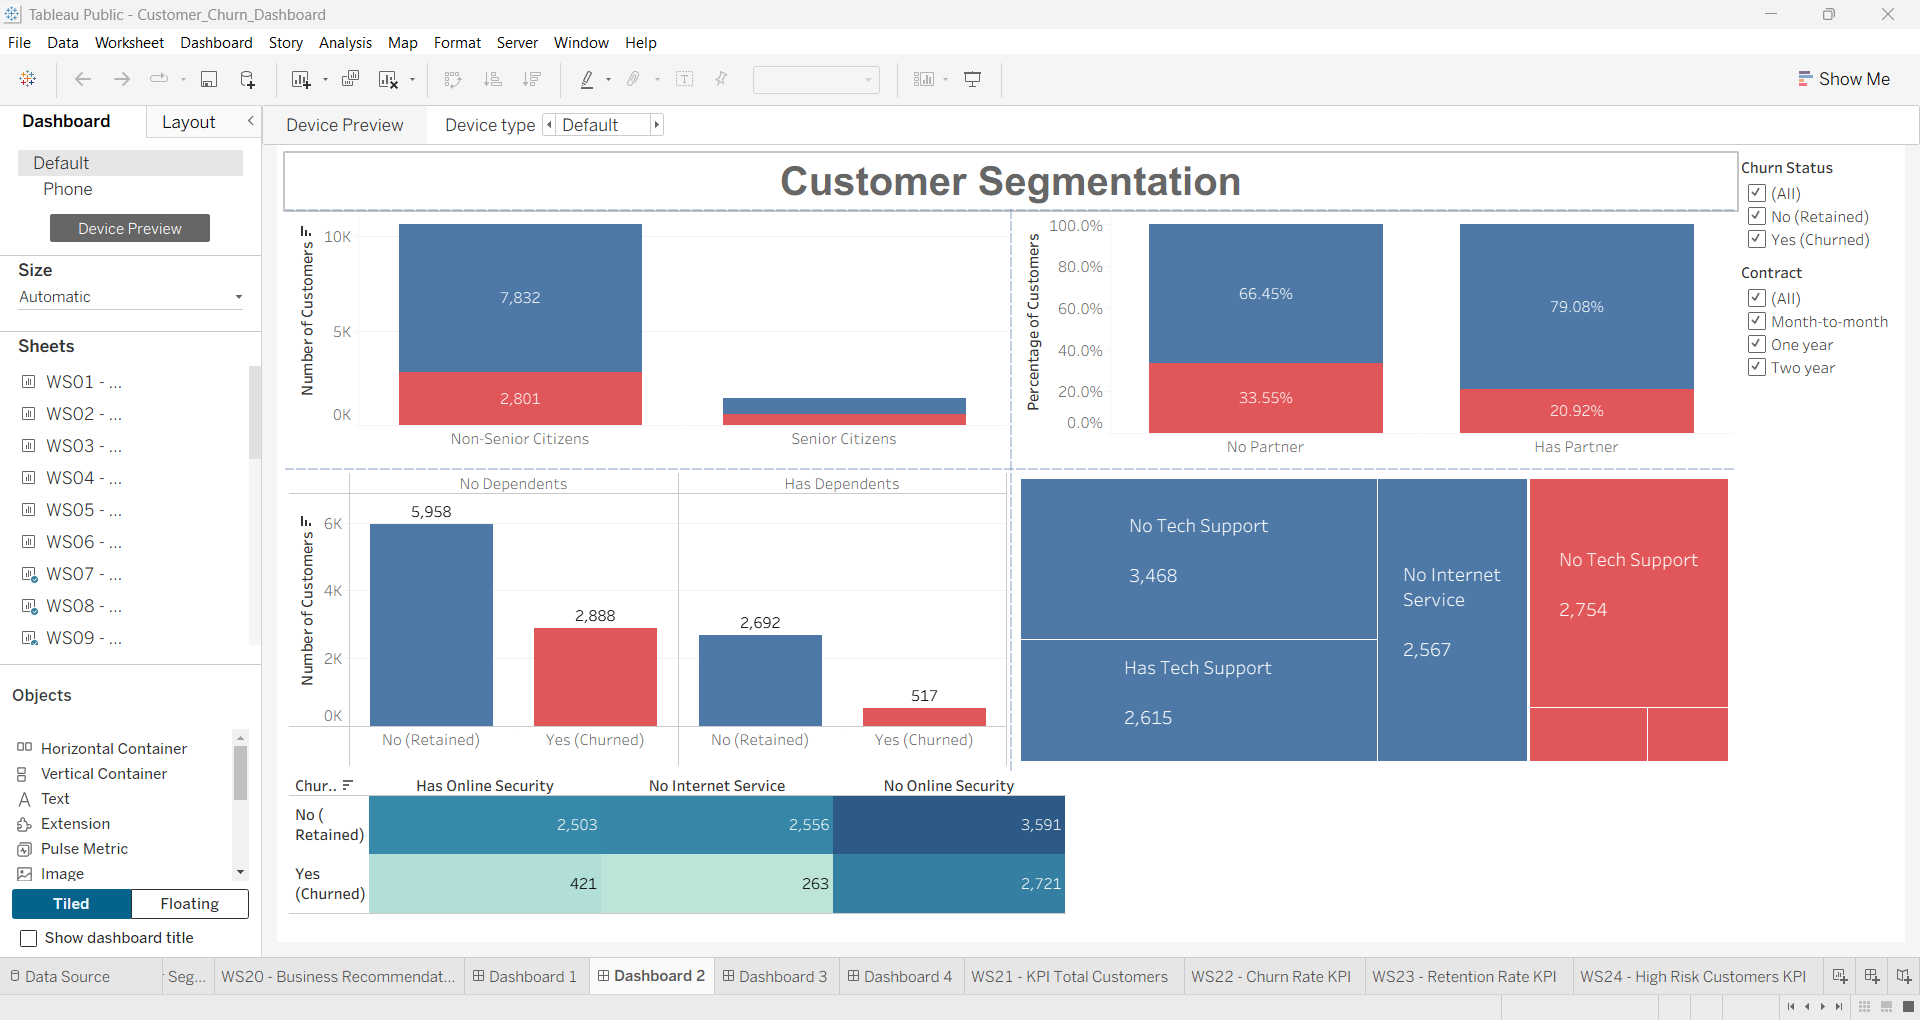

The page's visual inventory and layout, read from the dashboard file:
{"tool":"tableau","page":{"name":"Dashboard 2","canvas":[1000,1000],"units":"permille","ordinal":1},"visuals":[{"type":"text","box":[4.9,10,891.9,71.3]},{"type":"filter","title":"WS07 - Customer Churn by Senior Citizen","param":"[federated.1d8sdiq1w6mdpy19j9tt40uc6hzn].[none:Calculation_1875467789008031744:n","box":[896.8,10,98.3,131.8]},{"type":"worksheet","title":"WS07 - Customer Churn by Senior Citizen","mark":"Automatic","rows":["customer_churn.csv_099EB1C3FDB0448FA6F9C6B7F79F960C"],"cols":["SeniorCitizen"],"box":[4.9,81.4,445.9,325]},{"type":"worksheet","title":"WS08 - Customer Churn by Partner Status","mark":"Automatic","cols":["Partner"],"box":[450.8,81.4,446,325]},{"type":"filter","title":"WS08 - Customer Churn by Partner Status","param":"[federated.1d8sdiq1w6mdpy19j9tt40uc6hzn].[none:Contract:nk]","box":[896.8,141.8,98.3,160.6]},{"type":"worksheet","title":"WS09 - Customer Churn by Dependents","mark":"Bar","rows":["customer_churn.csv_099EB1C3FDB0448FA6F9C6B7F79F960C"],"cols":["Dependents","Calculation_1875467789008031744"],"box":[4.9,406.4,445.9,379]},{"type":"worksheet","title":"WS10 - Customer Churn by Tech Support","mark":"Automatic","box":[450.8,406.4,446,379]},{"type":"worksheet","title":"WS11 - Customer Churn by Online Security Status","mark":"Square","rows":["Calculation_1875467789008031744"],"cols":["OnlineSecurity"],"box":[4.9,785.4,891.9,204.5]}]}

Visuals, with their boxes on the dashboard's canvas, which has no fixed pixel size, in thousandths of its width and height (x1, y1, x2, y2). These are canvas units, not pixel positions in the 1920x1020 screenshot, which may show the page scaled, cropped or inside an application window:
text: (left=5, top=10, right=897, bottom=81)
"WS07 - Customer Churn by Senior Citizen" filter: (left=897, top=10, right=995, bottom=142)
"WS07 - Customer Churn by Senior Citizen" worksheet: (left=5, top=81, right=451, bottom=406)
"WS08 - Customer Churn by Partner Status" worksheet: (left=451, top=81, right=897, bottom=406)
"WS08 - Customer Churn by Partner Status" filter: (left=897, top=142, right=995, bottom=302)
"WS09 - Customer Churn by Dependents" worksheet (Bar marks): (left=5, top=406, right=451, bottom=785)
"WS10 - Customer Churn by Tech Support" worksheet: (left=451, top=406, right=897, bottom=785)
"WS11 - Customer Churn by Online Security Status" worksheet (Square marks): (left=5, top=785, right=897, bottom=990)
